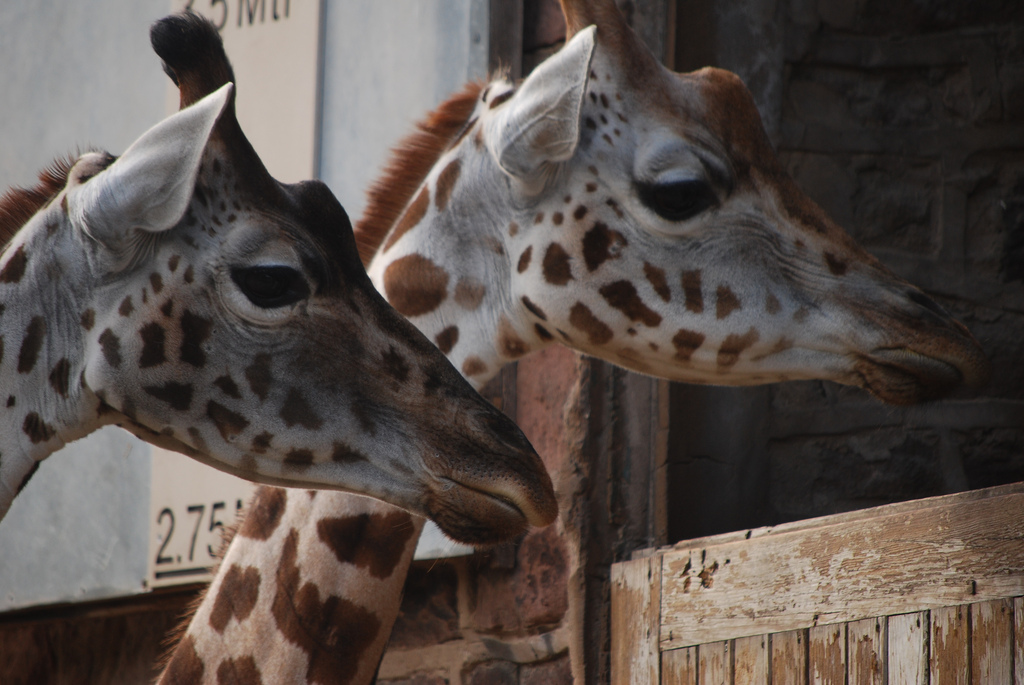giraffe: (319, 38, 995, 630), (28, 23, 526, 569)
